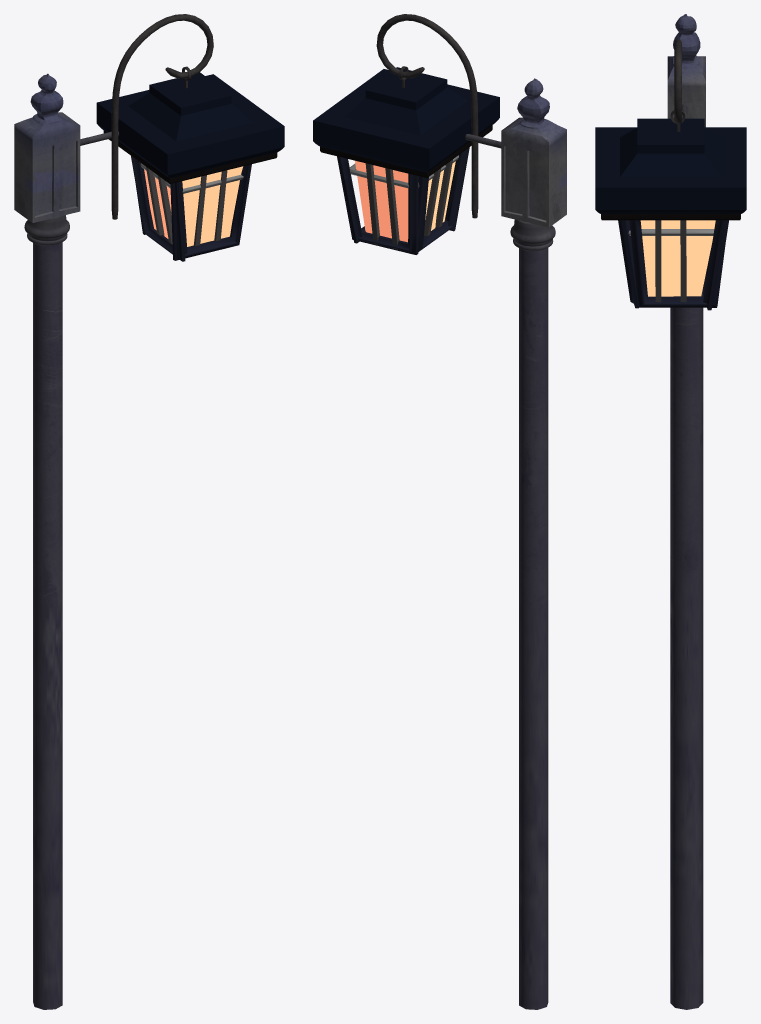
Rendered from streetlight.glb.
The picture shows the model from 3 angles, left to right: view 1: azimuth 30°, elevation 25°; view 2: azimuth 150°, elevation 25°; view 3: azimuth 270°, elevation 25°; orthographic projection. The views are drawn at different scales.
Parts seen in each view (by area): view 1: sweep13, sweep4, pCube11, pPlane1, sweep7, polySurface1, polySurface4, pCylinder1, sweep2, sweep3; view 2: sweep13, sweep4, pCube11, pPlane1, sweep7, polySurface3, polySurface4, pCylinder1, sweep2, polySurface2, polySurface1, sweep3 (+2 smaller); view 3: sweep13, sweep4, pPlane1, pCube11, polySurface2, polySurface3, sweep2, polySurface1, sweep3, sweep7, Palo3, Palo2 (+1 smaller).
Part boxes in pixels (x1,y1,x2,y2): sweep13: [33, 242, 62, 1009]; sweep4: [96, 72, 284, 175]; pCube11: [14, 73, 80, 222]; pPlane1: [144, 166, 243, 246]; sweep7: [111, 14, 213, 219]; polySurface1: [170, 164, 251, 260]; polySurface4: [131, 156, 187, 261]; pCylinder1: [24, 215, 69, 245]; sweep2: [103, 130, 277, 183]; sweep3: [97, 124, 283, 178]; sweep13: [519, 248, 548, 1009]; sweep4: [313, 67, 499, 169]; pCube11: [501, 78, 566, 227]; pPlane1: [355, 160, 455, 242]; sweep7: [376, 14, 478, 218]; polySurface3: [337, 156, 418, 254]; polySurface4: [418, 147, 469, 251]; pCylinder1: [510, 219, 555, 251]; sweep2: [320, 125, 492, 177]; polySurface2: [337, 156, 365, 243]; polySurface1: [444, 148, 469, 231]; sweep3: [313, 118, 499, 172]; sweep13: [670, 289, 703, 1009]; sweep4: [595, 118, 746, 209]; pPlane1: [640, 220, 715, 296]; pCube11: [667, 14, 705, 127]; polySurface2: [629, 220, 728, 307]; polySurface3: [703, 220, 728, 310]; sweep2: [601, 214, 740, 220]; polySurface1: [618, 220, 639, 308]; sweep3: [596, 210, 745, 214]; sweep7: [674, 38, 681, 124]; Palo3: [655, 220, 661, 302]; Palo2: [680, 220, 686, 302].
Bounding box in the file's own units: 0.2267 × 0.9552 × 0.1279.
Materials: 11 (8 with a texture image).
